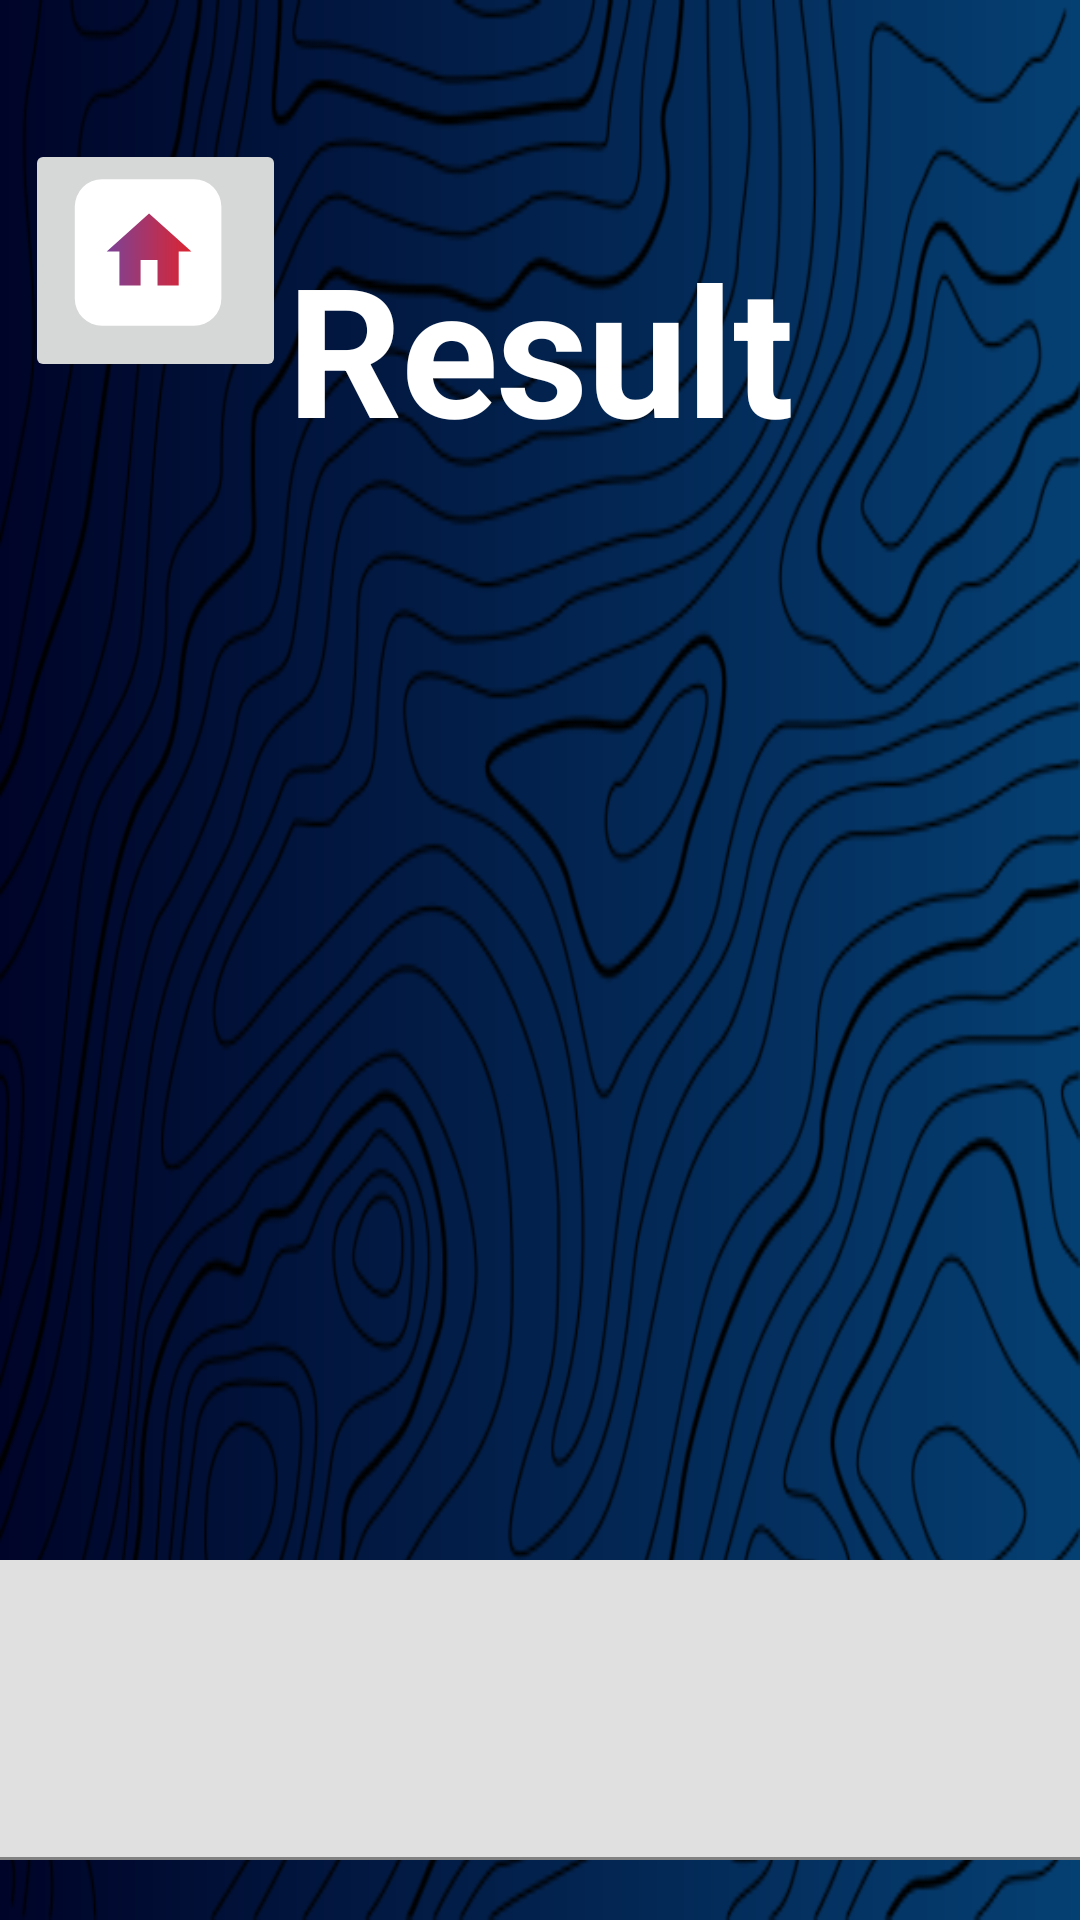

Icon click points for this 1080px x 1920px phone screenshot, format (x,y):
homebutton: (155,260)
